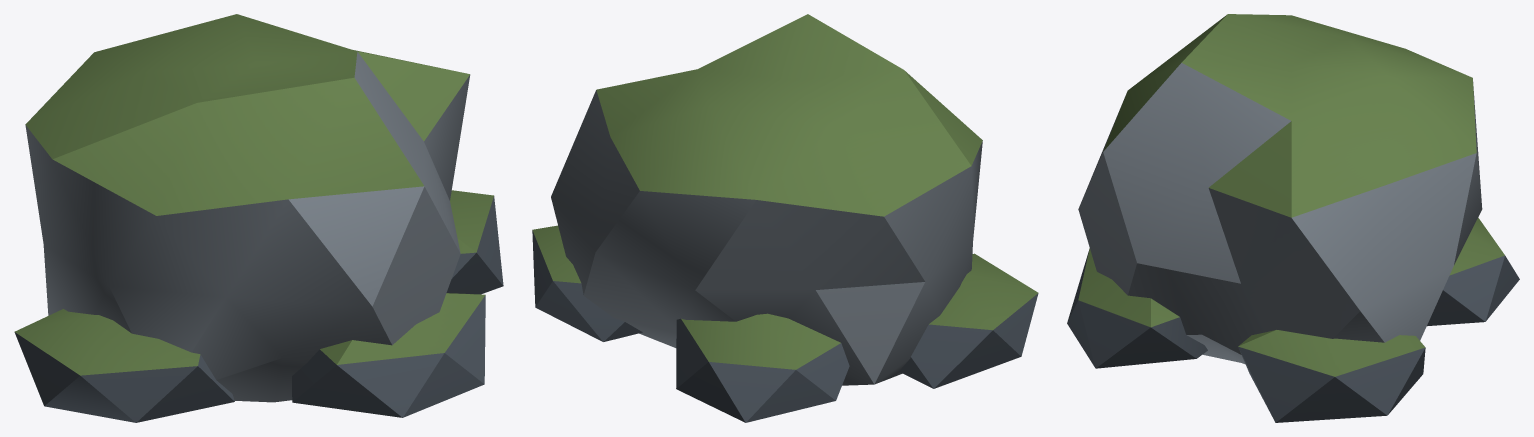
Rendered from rock_a.glb.
3 views of the same model, side by side, from view 1: azimuth 30°, elevation 25°; view 2: azimuth 150°, elevation 25°; view 3: azimuth 270°, elevation 25° (orthographic). The views are drawn at different scales.
Visible parts, largest first — view 1: rock_a; view 2: rock_a; view 3: rock_a.
Boxes of the visible parts, bbox=[...] form: rock_a: bbox=[14, 14, 503, 422]; rock_a: bbox=[532, 14, 1038, 422]; rock_a: bbox=[1067, 14, 1519, 422].
Bounding box in the file's own units: 1.46 × 0.8847 × 1.25.
